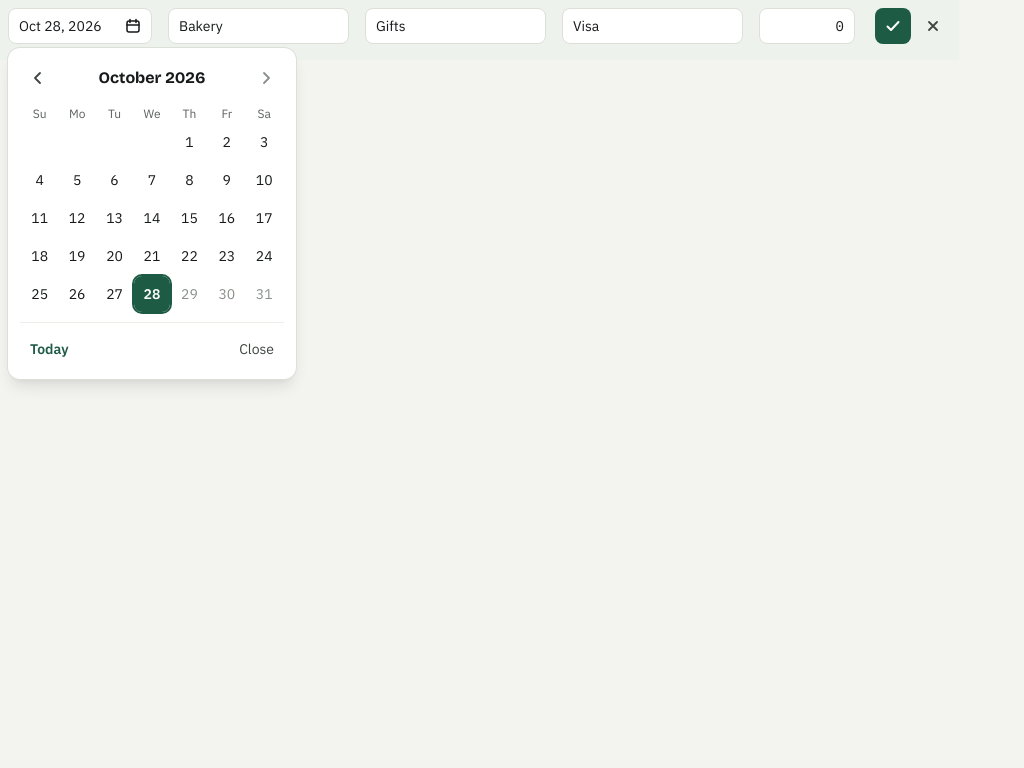
Test case: EntryRow › a zero amount is refused with the spec’s message
This screenshot has width=1024, height=768.
Click the button named "Save spending" at (893, 26), box [875, 8, 911, 44]
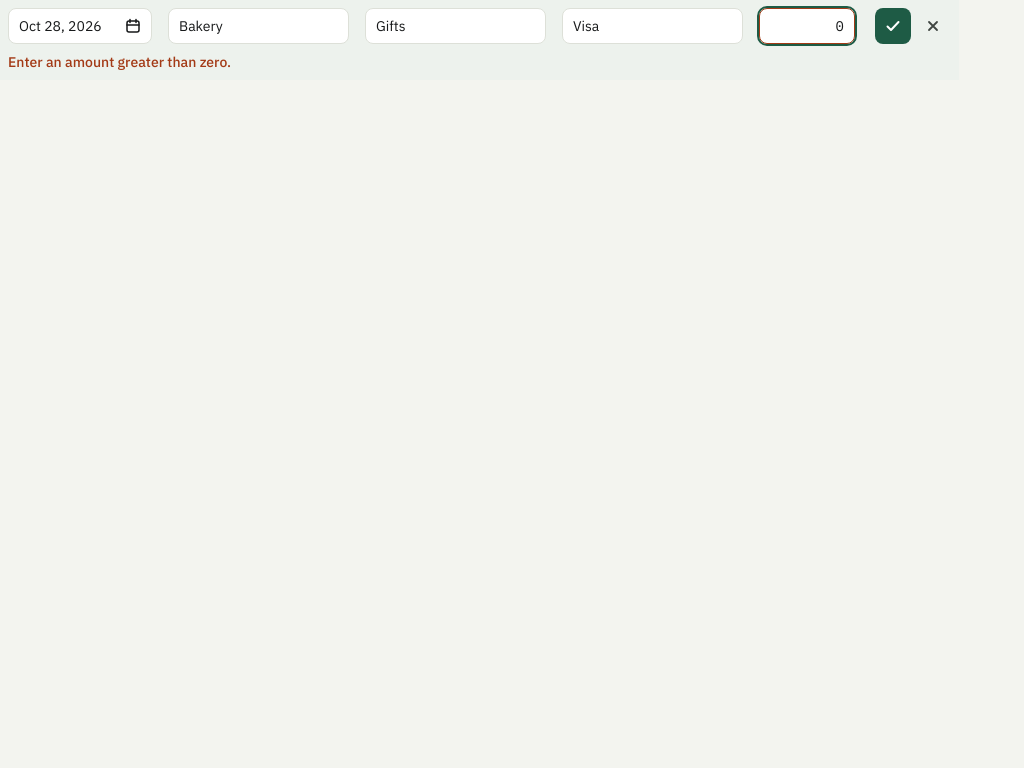
Now the text "Enter an amount greater than zero." is shown, box [8, 53, 231, 71]
